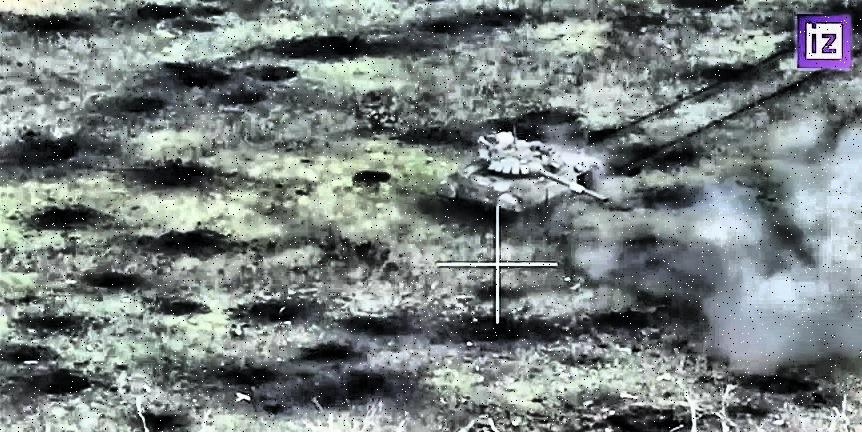military-vehicle: (435, 131, 609, 221)
